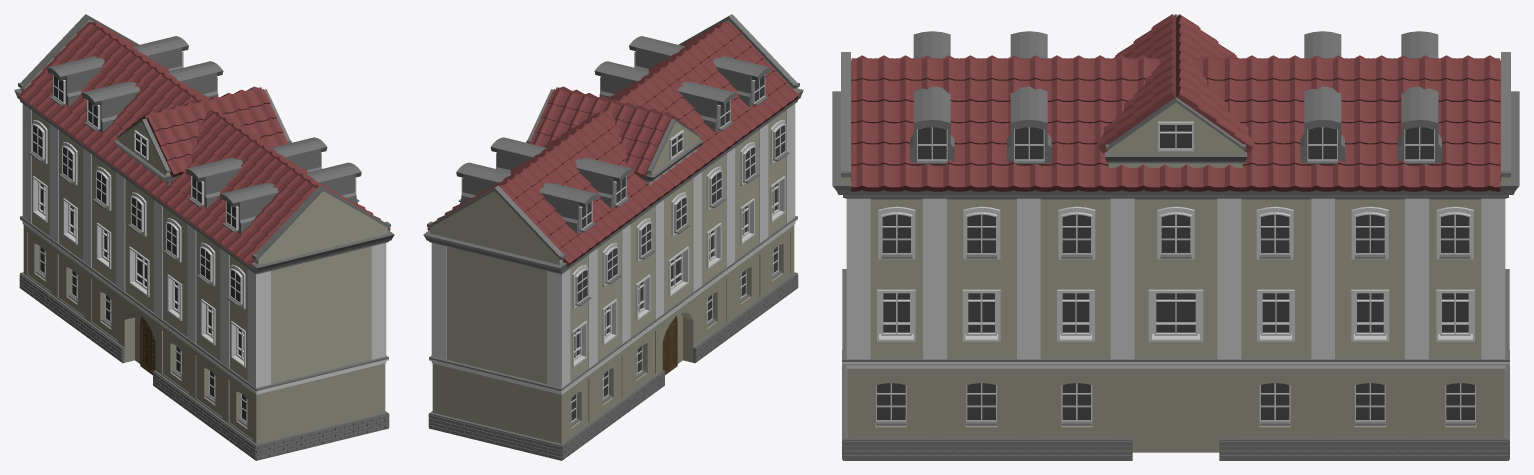
The model's file is building1_large.001_lev2.glb.
The picture shows the model from 3 angles, left to right: view 1: azimuth 30°, elevation 25°; view 2: azimuth 150°, elevation 25°; view 3: azimuth 270°, elevation 25°; orthographic projection. The views are drawn at different scales.
Visible parts, largest first — view 1: building1_large.001_lev2; view 2: building1_large.001_lev2; view 3: building1_large.001_lev2.
Part boxes in pixels (x1,y1,x2,y2): building1_large.001_lev2: [14, 14, 394, 460]; building1_large.001_lev2: [423, 14, 803, 460]; building1_large.001_lev2: [832, 14, 1519, 460].
Bounding box in the file's own units: 7.49 × 12.76 × 21.83.
